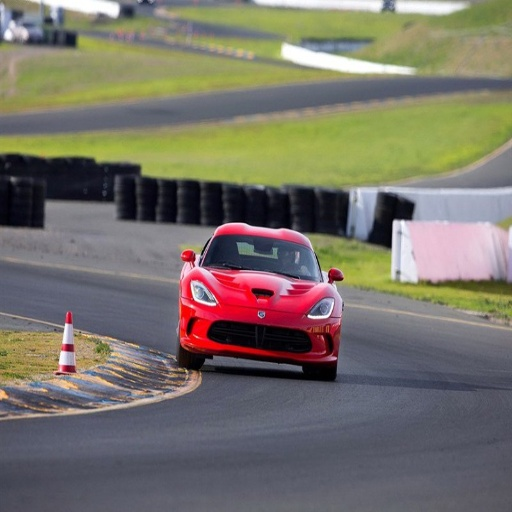tailgate: (383, 89, 490, 152)
trunk: (183, 270, 300, 356)
